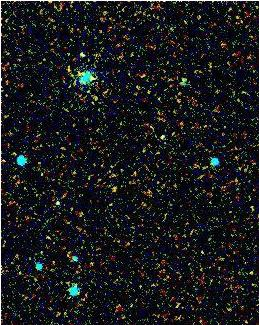star: (65, 36, 95, 66)
